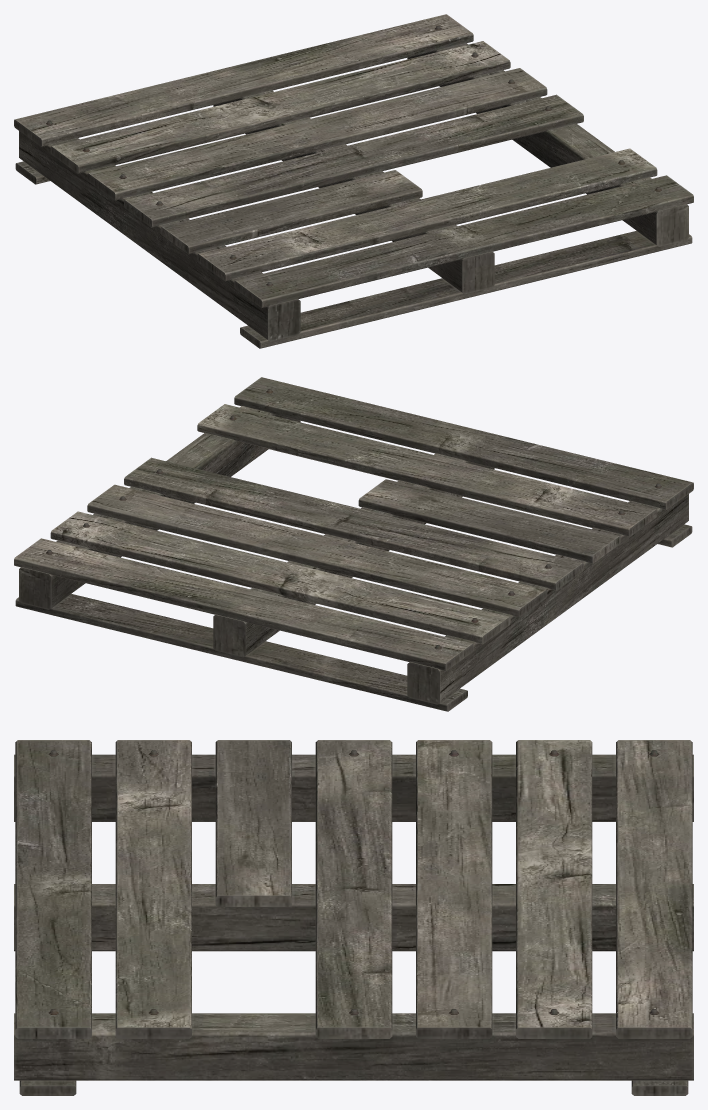
The model's file is pallet.glb.
The picture shows the model from 3 angles, top to bottom: view 1: azimuth 30°, elevation 25°; view 2: azimuth 150°, elevation 25°; view 3: azimuth 270°, elevation 25°; orthographic projection. The views are drawn at different scales.
Visible parts, largest first — view 1: pallet; view 2: pallet; view 3: pallet.
Part boxes in pixels (left/top/right/bottom): pallet: left=14, top=14, right=693, bottom=348; pallet: left=14, top=377, right=693, bottom=711; pallet: left=14, top=740, right=693, bottom=1095.
Size of the model in its own units: 1.2 by 0.1391 by 1.2.
Materials: 1 (1 with a texture image).
